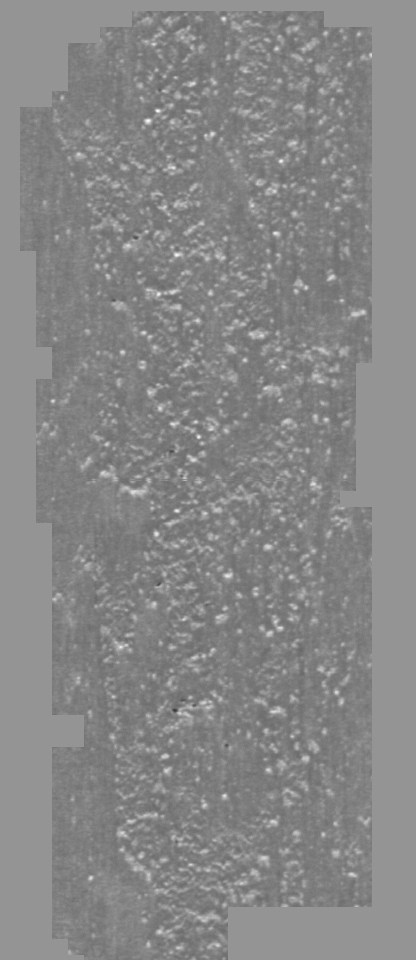oxl: (35, 10, 381, 950)
